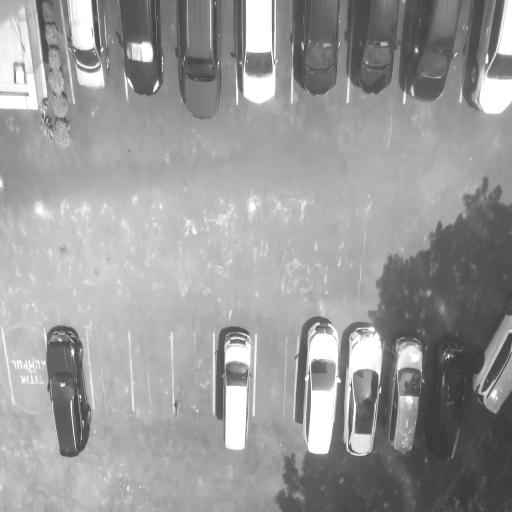Car: (43, 323, 90, 468), (173, 0, 221, 136), (456, 3, 512, 119), (404, 2, 461, 109), (303, 318, 342, 462), (216, 321, 256, 461), (344, 325, 384, 461), (348, 0, 401, 100), (428, 342, 469, 465), (117, 0, 165, 105), (292, 0, 339, 106), (469, 310, 512, 422), (236, 0, 279, 103), (62, 0, 109, 94), (390, 336, 424, 456)
Space Available: (256, 325, 296, 448), (172, 320, 213, 432), (88, 323, 131, 427), (6, 322, 46, 432), (132, 326, 172, 429)
